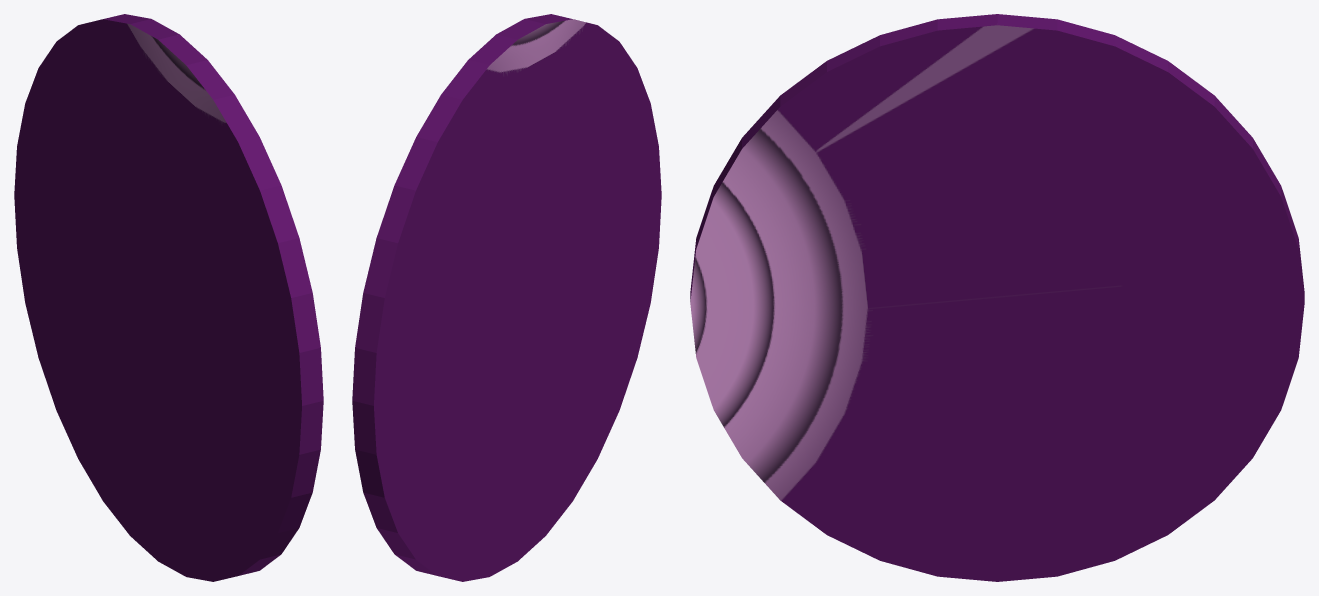
File: sausage.fbx
3 views of the same model, side by side, from view 1: azimuth 30°, elevation 25°; view 2: azimuth 150°, elevation 25°; view 3: azimuth 270°, elevation 25° (orthographic). The views are drawn at different scales.
Visible parts, largest first — view 1: Cylinder.005; view 2: Cylinder.005; view 3: Cylinder.005.
Part boxes in pixels (<box>): Cylinder.005: <box>14,14,323,581</box>; Cylinder.005: <box>352,14,661,581</box>; Cylinder.005: <box>690,14,1304,581</box>.
Bounding box in the file's own units: 0.5373 × 12.41 × 12.41.
